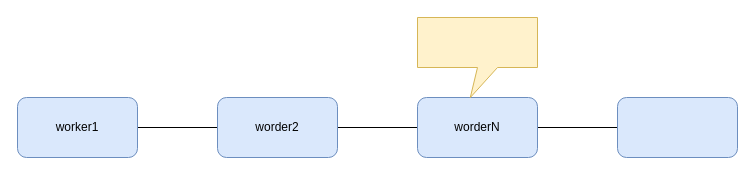
Some shapes in this 755 by 175 pixel diagram are drawn without their labels. Each missing label, with the centre of its shape:
Leader: (477,57)
worderN+1: (677,127)
